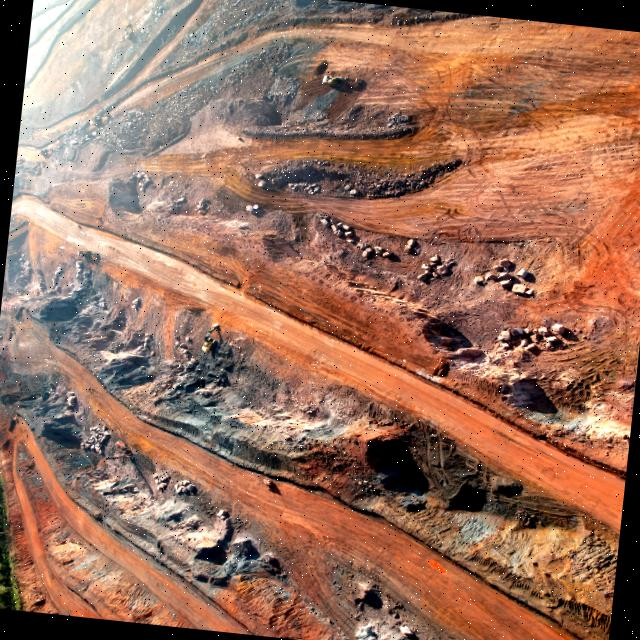Blast rig: (108, 441, 132, 459), (109, 444, 133, 462), (112, 448, 133, 462)
Excavator: (322, 74, 361, 90), (200, 322, 218, 352), (86, 113, 105, 129), (88, 112, 108, 126), (119, 22, 132, 40), (120, 22, 132, 40), (120, 22, 132, 39), (76, 249, 94, 259), (35, 144, 52, 154), (76, 250, 97, 258), (36, 146, 52, 156), (76, 250, 95, 258)
